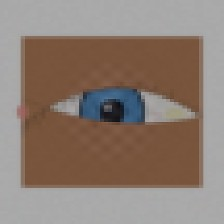pinguecula_lesion: (155, 98, 195, 130)
